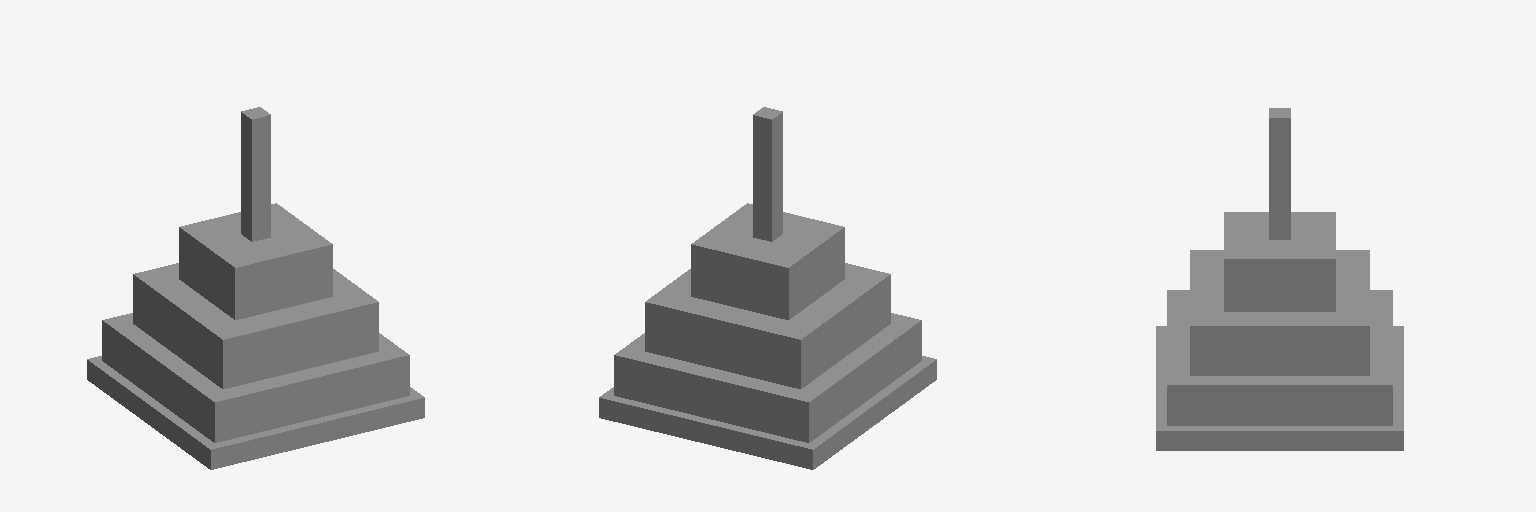
Rendered from rocket_cone_basic.obj.
3 views of the same model, side by side, from view 1: azimuth 30°, elevation 25°; view 2: azimuth 150°, elevation 25°; view 3: azimuth 270°, elevation 25° (orthographic).
Parts seen in each view (by area): view 1: RocketTop.001_Cube.000; view 2: RocketTop.001_Cube.000; view 3: RocketTop.001_Cube.000.
Boxes of the visible parts, box(x1,y1,x2,y2) form: RocketTop.001_Cube.000: box(87, 107, 424, 469); RocketTop.001_Cube.000: box(599, 107, 936, 469); RocketTop.001_Cube.000: box(1156, 108, 1403, 450).
Size of the model in its own units: 1.38 by 1.75 by 1.38.